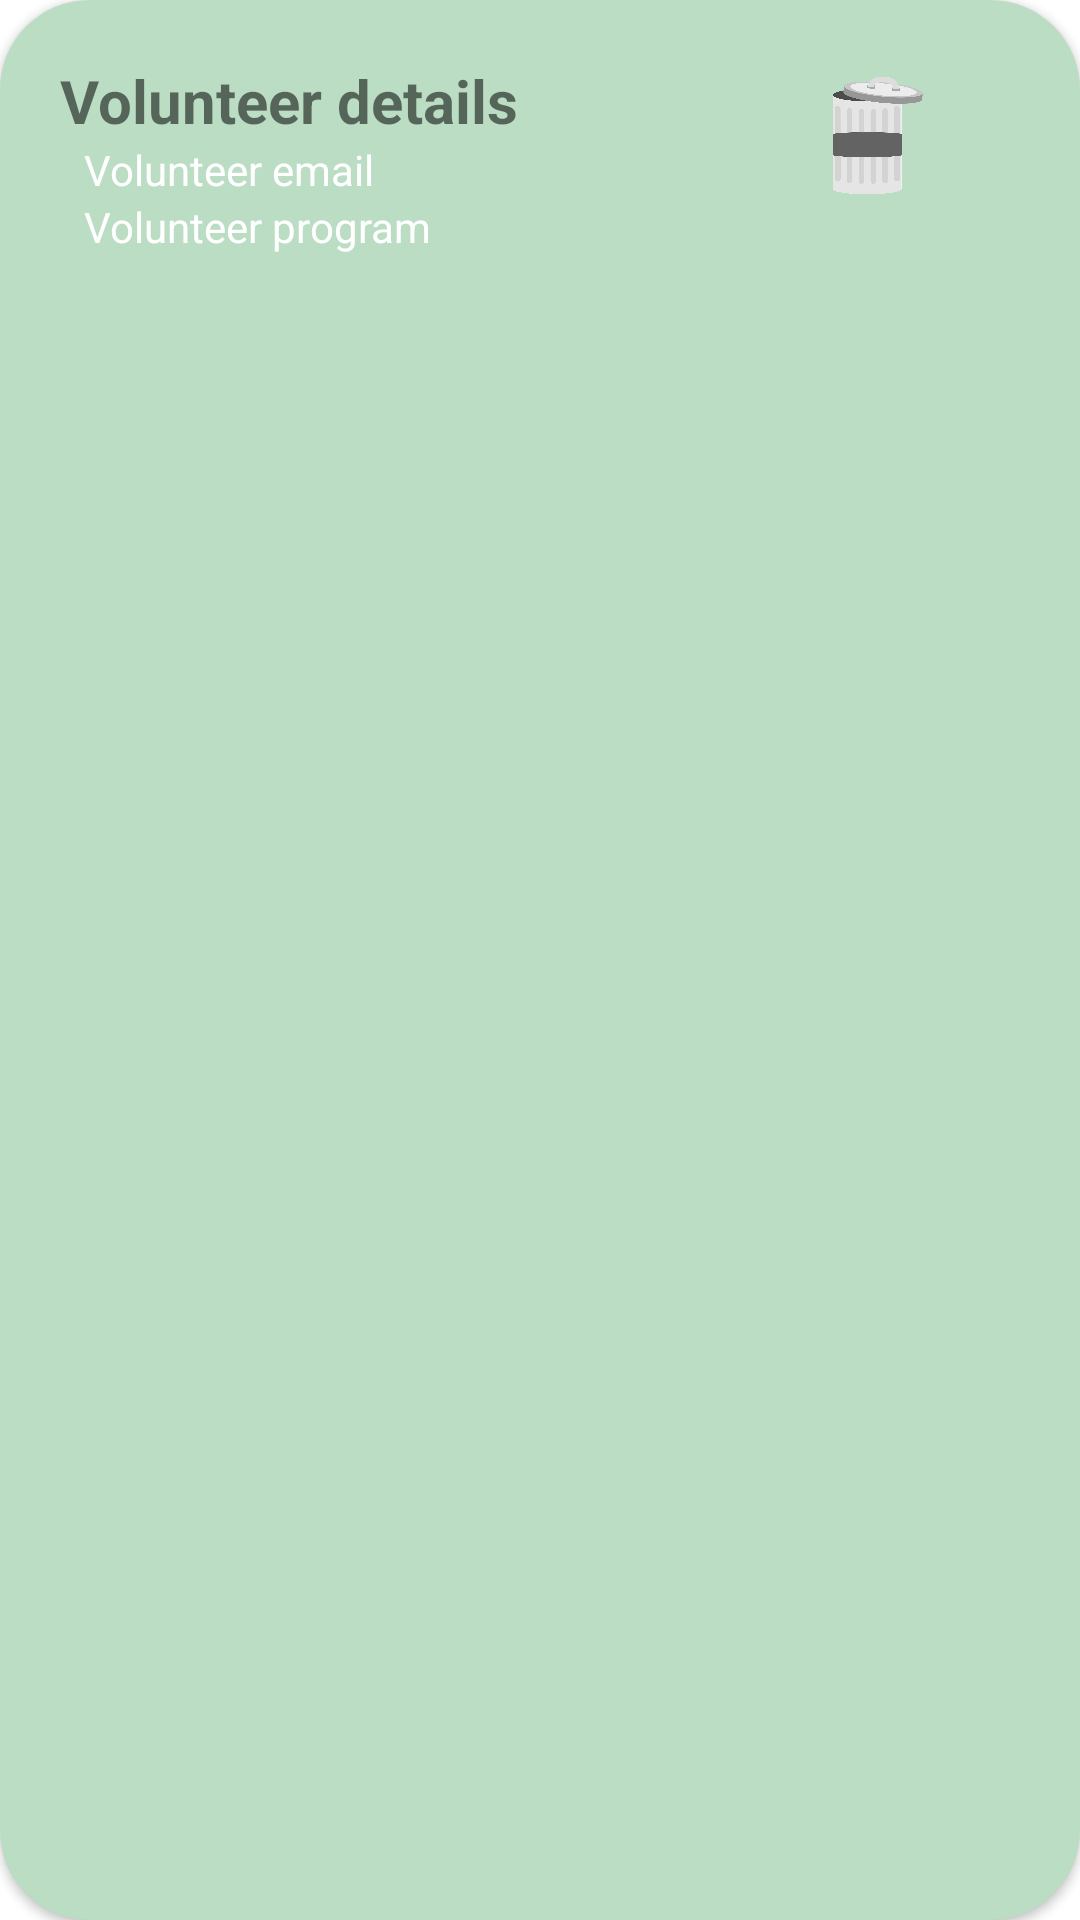

Named icons in this screenshot (1080*1920) and their bounding boxes, [left=x1, top=y1, right=x2, bottom=y2]:
delete: [left=833, top=77, right=923, bottom=194]
